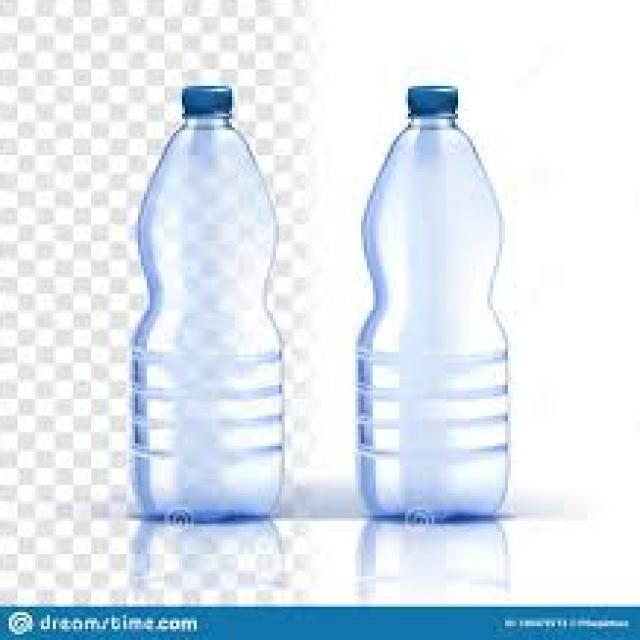Plastic: (126, 83, 284, 527), (353, 84, 508, 516)
